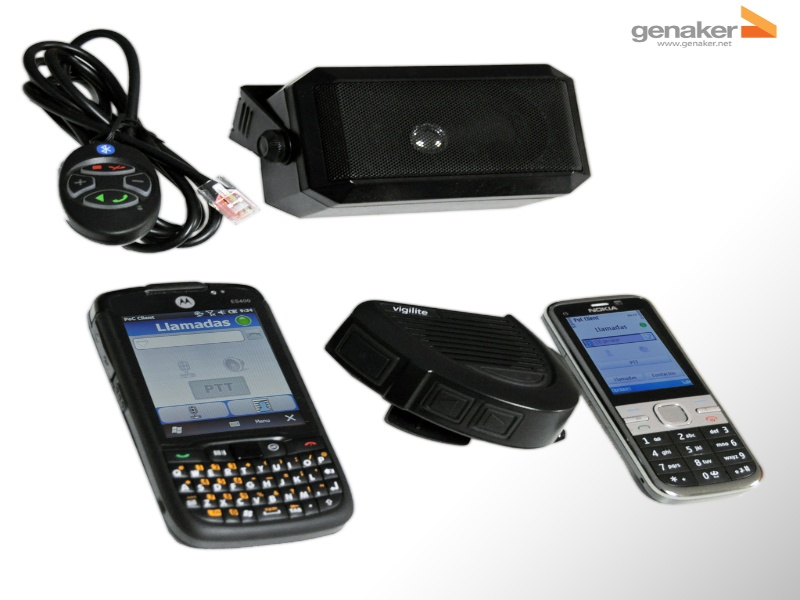cellphone: (77, 277, 357, 556)
